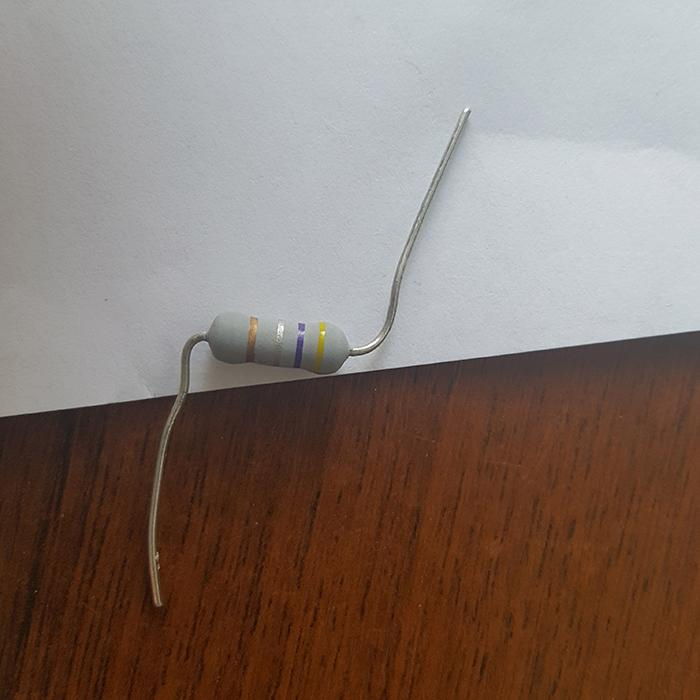resistor: (205, 309, 353, 374)
